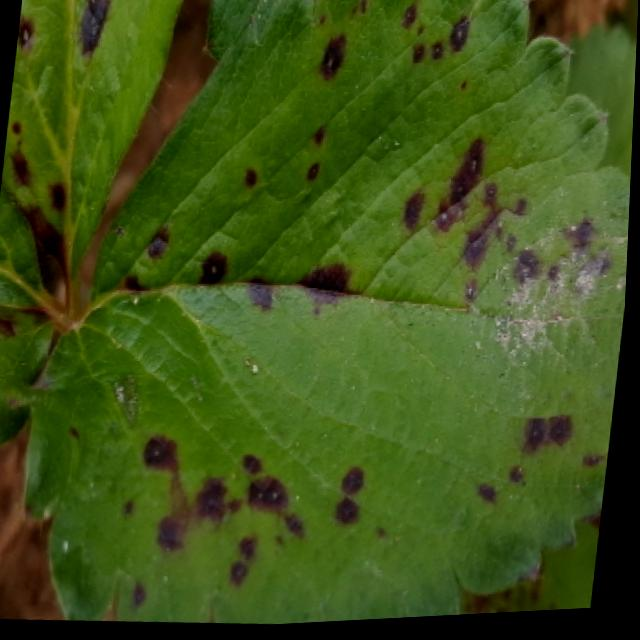Leaf Spot: (26, 0, 633, 627), (3, 0, 182, 302), (0, 172, 62, 448), (569, 27, 638, 186), (520, 527, 605, 618), (469, 596, 528, 620)
